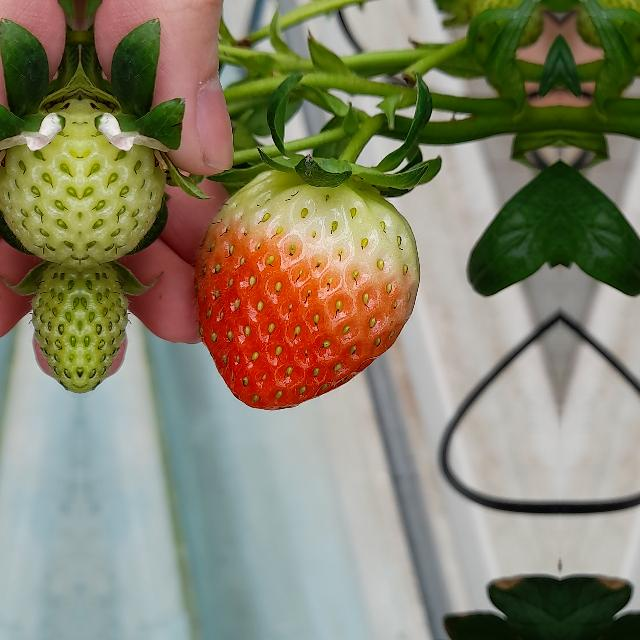Health_25: (83, 90, 159, 274), (1, 90, 77, 274), (82, 261, 130, 393), (30, 261, 78, 393)
Health_75: (194, 170, 420, 410)
